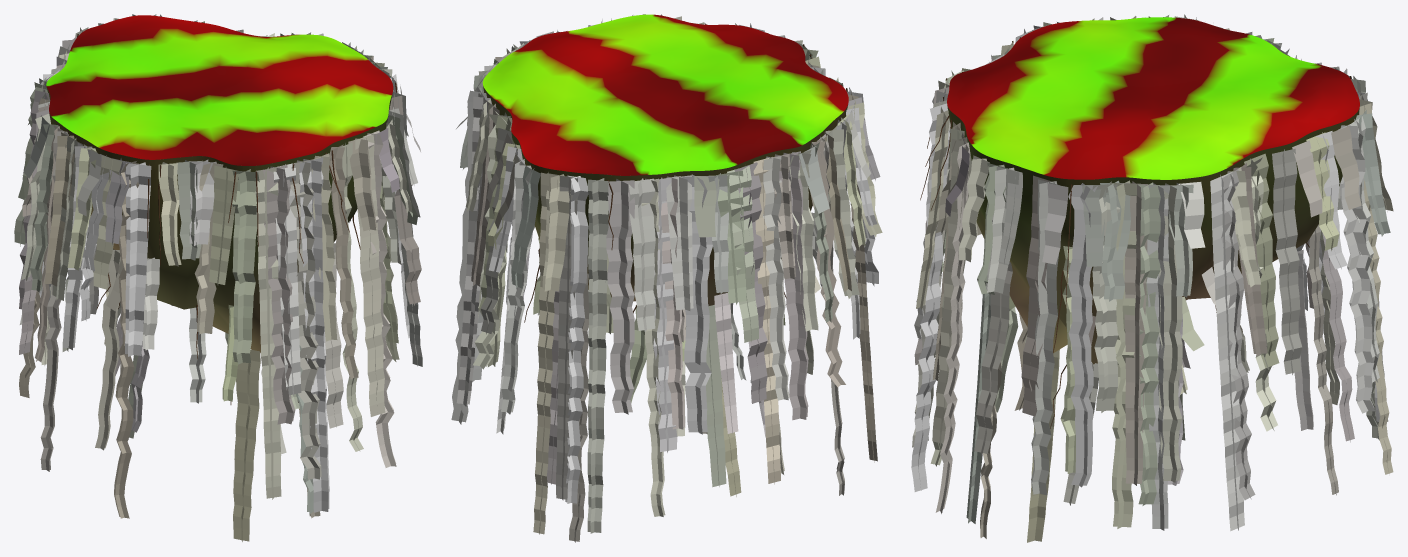
File: SM_H05_Floater07.fbx
The picture shows the model from 3 angles, left to right: view 1: azimuth 30°, elevation 25°; view 2: azimuth 150°, elevation 25°; view 3: azimuth 270°, elevation 25°; orthographic projection. The views are drawn at different scales.
Parts seen in each view (by area): view 1: SM_H05_Floater07_Ivy, SM_H05_Floater07; view 2: SM_H05_Floater07_Ivy, SM_H05_Floater07; view 3: SM_H05_Floater07_Ivy, SM_H05_Floater07.
Part boxes in pixels (left/top/right/bottom): SM_H05_Floater07_Ivy: left=14, top=14, right=422, bottom=541; SM_H05_Floater07: left=46, top=15, right=393, bottom=352; SM_H05_Floater07_Ivy: left=451, top=14, right=882, bottom=542; SM_H05_Floater07: left=482, top=14, right=848, bottom=305; SM_H05_Floater07_Ivy: left=911, top=14, right=1393, bottom=542; SM_H05_Floater07: left=947, top=17, right=1359, bottom=364.
Size of the model in its own units: 31.55 by 35.92 by 33.77.
